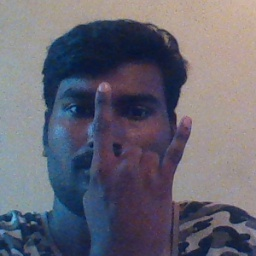V: (77, 81, 199, 256)
